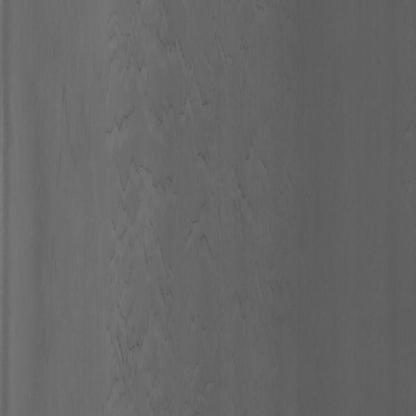silk_spot: (91, 25, 242, 383)
